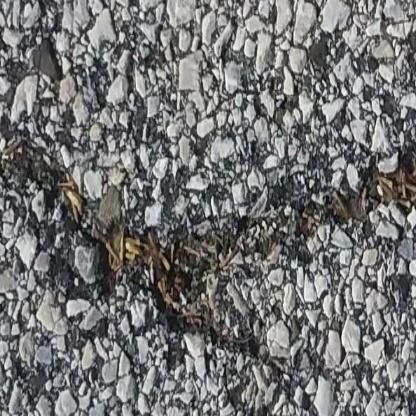Cracks: (0, 117, 416, 357)
